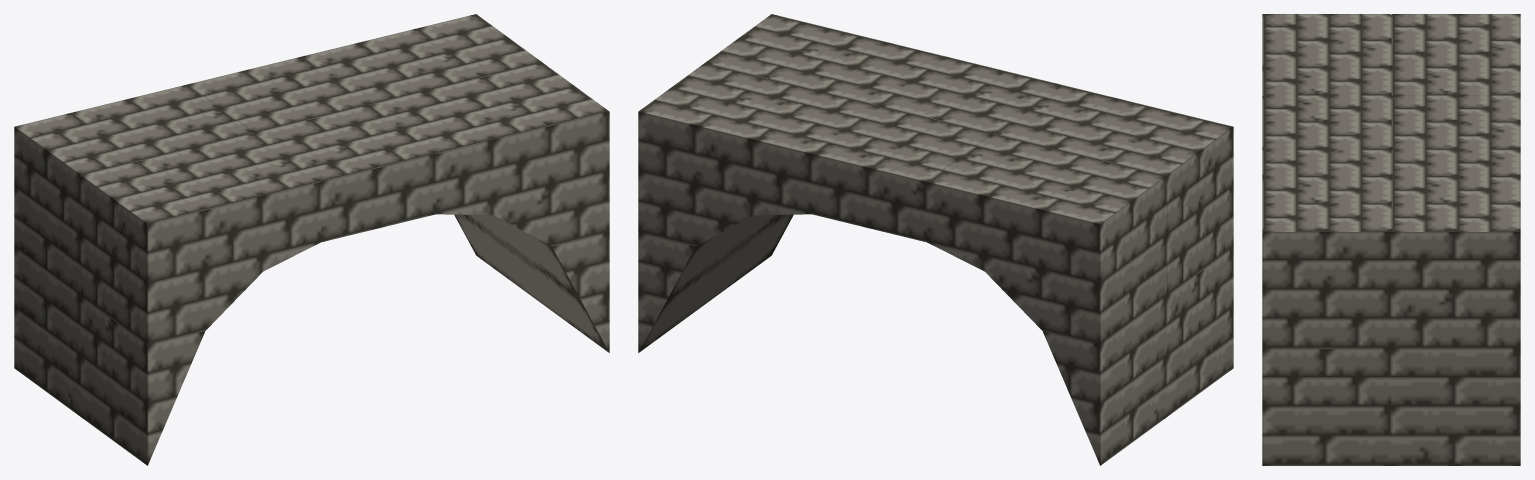
Rendered from Ceiling_Arch_Wide_x1.fbx.
The picture shows the model from 3 angles, left to right: view 1: azimuth 30°, elevation 25°; view 2: azimuth 150°, elevation 25°; view 3: azimuth 270°, elevation 25°; orthographic projection. The views are drawn at different scales.
Parts seen in each view (by area): view 1: Ceiling_Arch_Wide_x1; view 2: Ceiling_Arch_Wide_x1; view 3: Ceiling_Arch_Wide_x1.
Part boxes in pixels (x1,y1,x2,y2): Ceiling_Arch_Wide_x1: (14,14,609,465); Ceiling_Arch_Wide_x1: (638,14,1233,465); Ceiling_Arch_Wide_x1: (1262,14,1520,465).
Size of the model in its own units: 800 by 400 by 400.
Materials: 1 (1 with a texture image).
